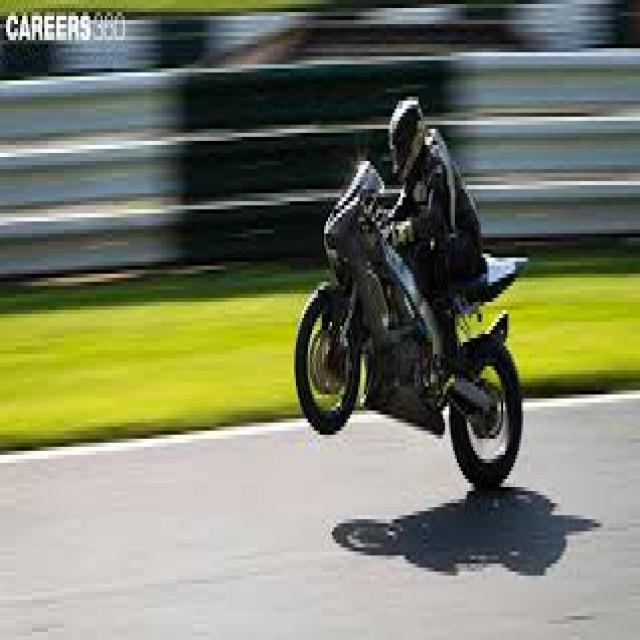Wheeling: (286, 96, 543, 529)
